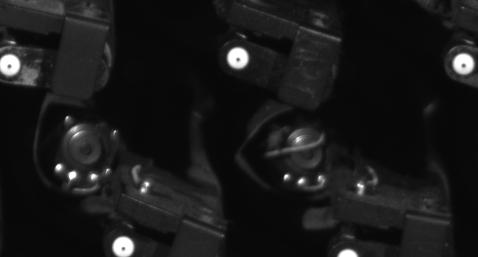fiber: (221, 42, 258, 76), (1, 49, 32, 82), (447, 50, 478, 81), (106, 234, 141, 257)
